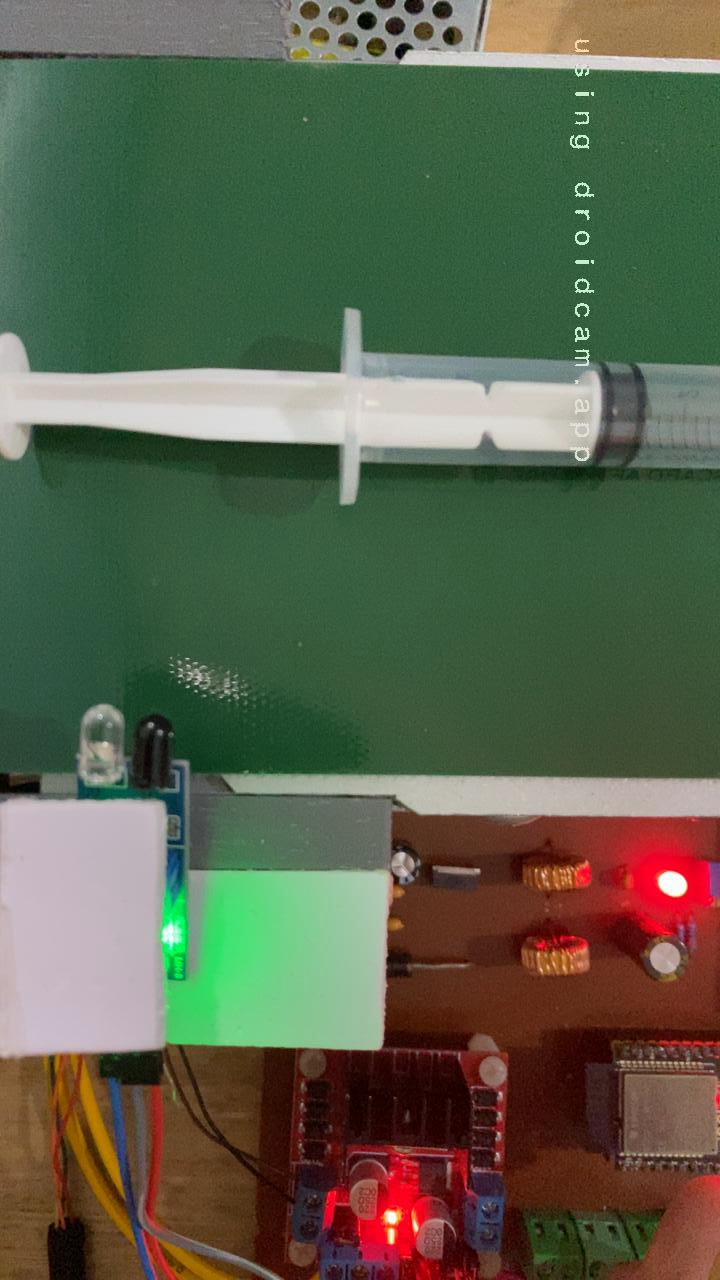syringe: (0, 302, 720, 513)
